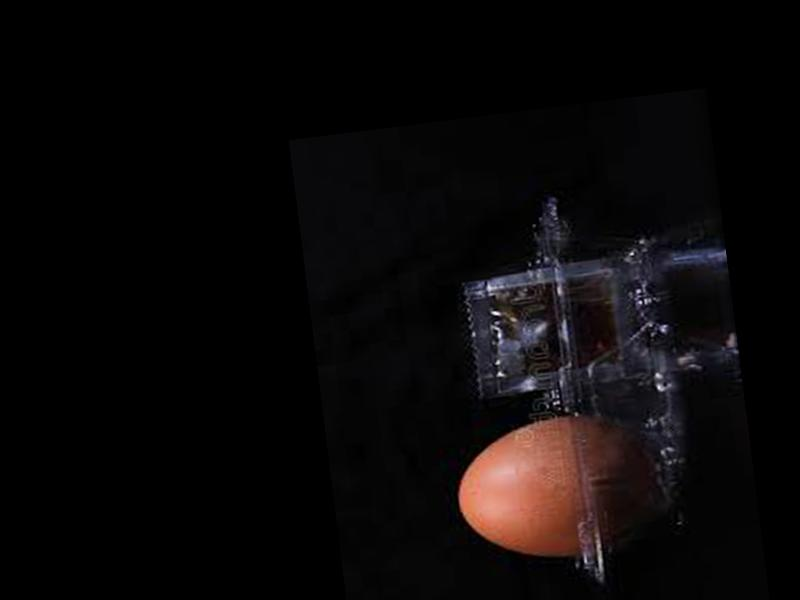Eggs: (450, 406, 673, 571)
